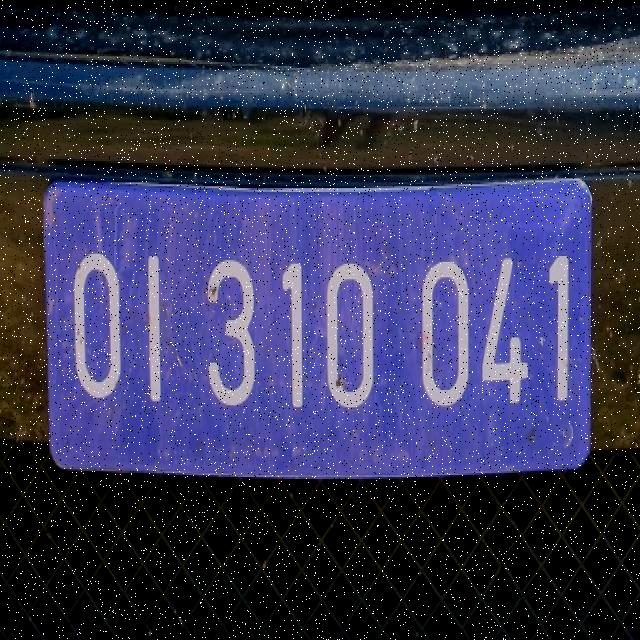licenseplate: (29, 132, 608, 514)
